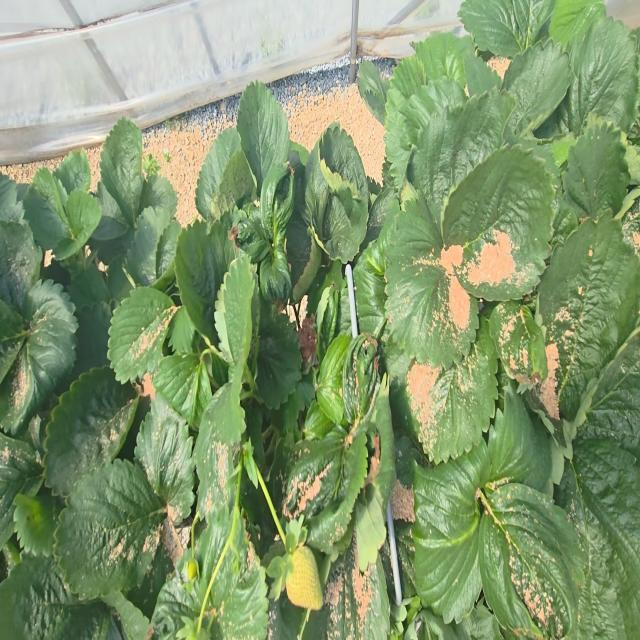Leaves: (539, 219, 640, 418), (442, 145, 555, 300), (478, 483, 588, 639), (556, 437, 640, 639), (385, 200, 478, 368), (55, 459, 161, 599), (413, 446, 491, 619), (407, 91, 509, 223), (405, 331, 498, 463), (45, 367, 137, 495), (0, 280, 77, 430), (0, 553, 121, 639), (558, 10, 638, 135), (573, 326, 640, 460), (303, 536, 390, 639), (175, 213, 238, 344), (135, 396, 194, 519), (562, 122, 630, 219), (108, 287, 177, 382), (502, 40, 570, 136), (486, 389, 550, 488), (194, 386, 240, 519), (237, 81, 290, 196), (384, 55, 426, 188), (196, 504, 247, 608), (256, 294, 302, 409), (0, 433, 44, 549), (100, 117, 143, 225), (491, 301, 547, 382), (214, 254, 254, 366), (319, 123, 369, 210), (195, 128, 241, 218), (154, 354, 212, 424), (218, 562, 269, 639), (23, 168, 71, 249), (0, 220, 42, 312), (458, 0, 525, 57), (124, 206, 170, 286), (413, 32, 474, 88), (53, 188, 101, 258), (353, 241, 387, 339), (316, 332, 351, 424), (402, 77, 465, 127), (73, 303, 111, 378), (301, 140, 329, 238), (287, 226, 322, 302), (323, 196, 364, 260), (60, 257, 109, 310), (356, 488, 386, 572), (14, 494, 54, 556), (91, 181, 128, 241), (357, 60, 389, 124), (317, 285, 340, 360), (54, 150, 91, 196), (156, 219, 182, 281), (142, 173, 177, 217)
Strawberries: (286, 546, 322, 610), (187, 560, 198, 581)
